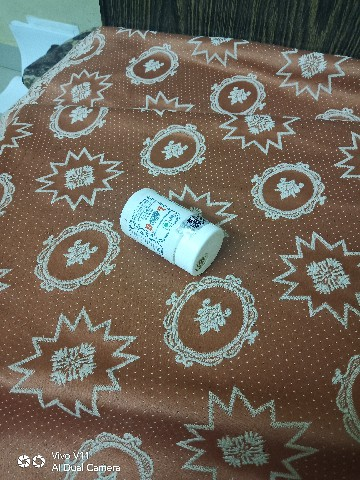lgasafoetidapowder small: (113, 174, 235, 286)
